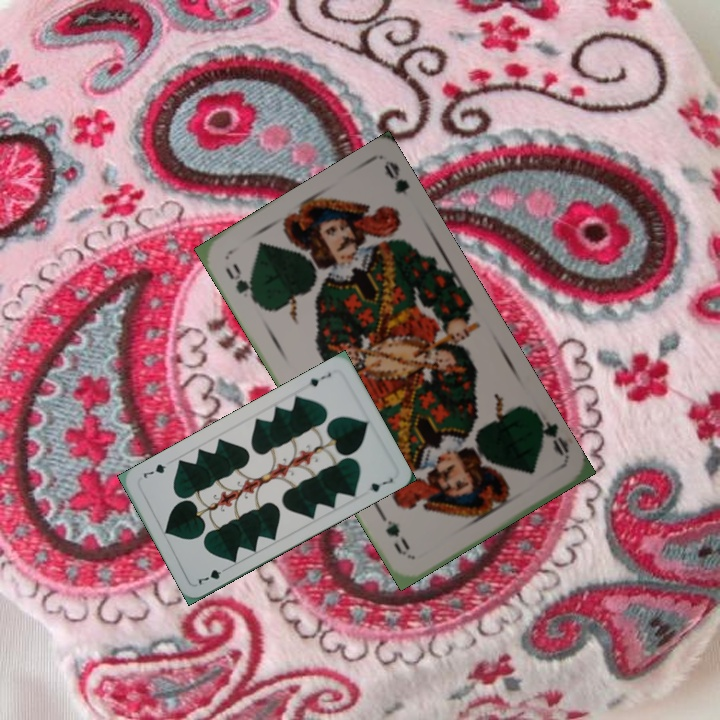G7: (194, 563, 231, 588), (300, 368, 334, 389)
GO: (532, 409, 572, 460), (221, 259, 262, 307)
